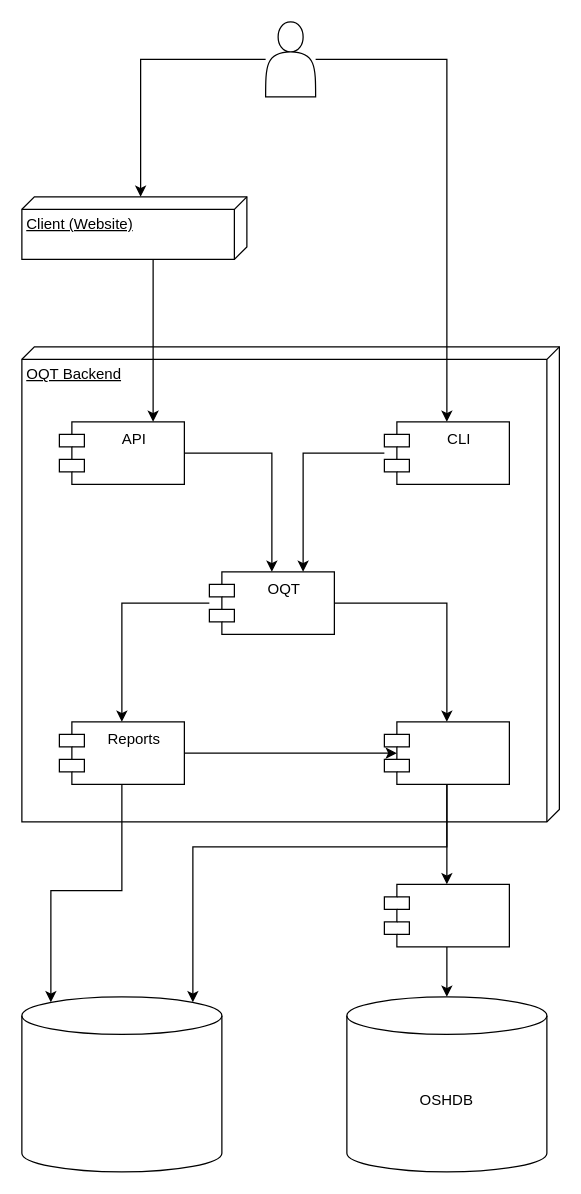
The diagram is 581 pixels wide and 1194 high, and some of its shapes have lost their labels. The centre of each missing label's shape, as x and y in pixels:
"Geodatabase" goes at (x=121, y=1084).
"Indicators" goes at (x=446, y=752).
"ohsome API" goes at (x=446, y=915).
